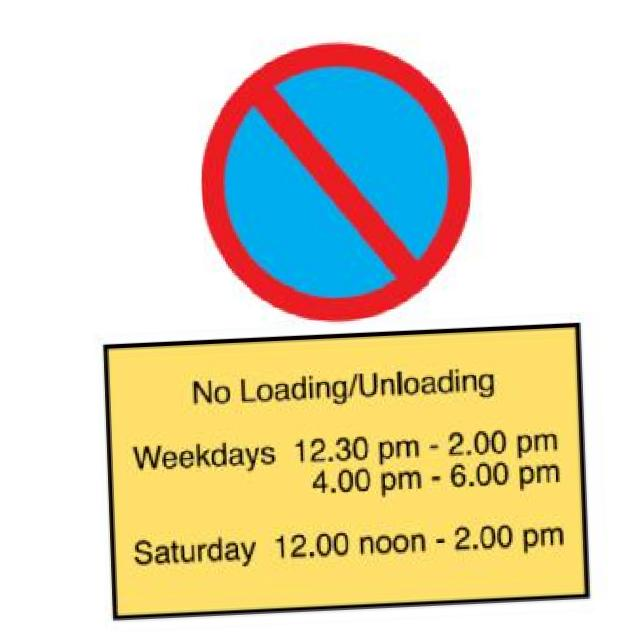forb_stopping: (201, 45, 471, 322)
